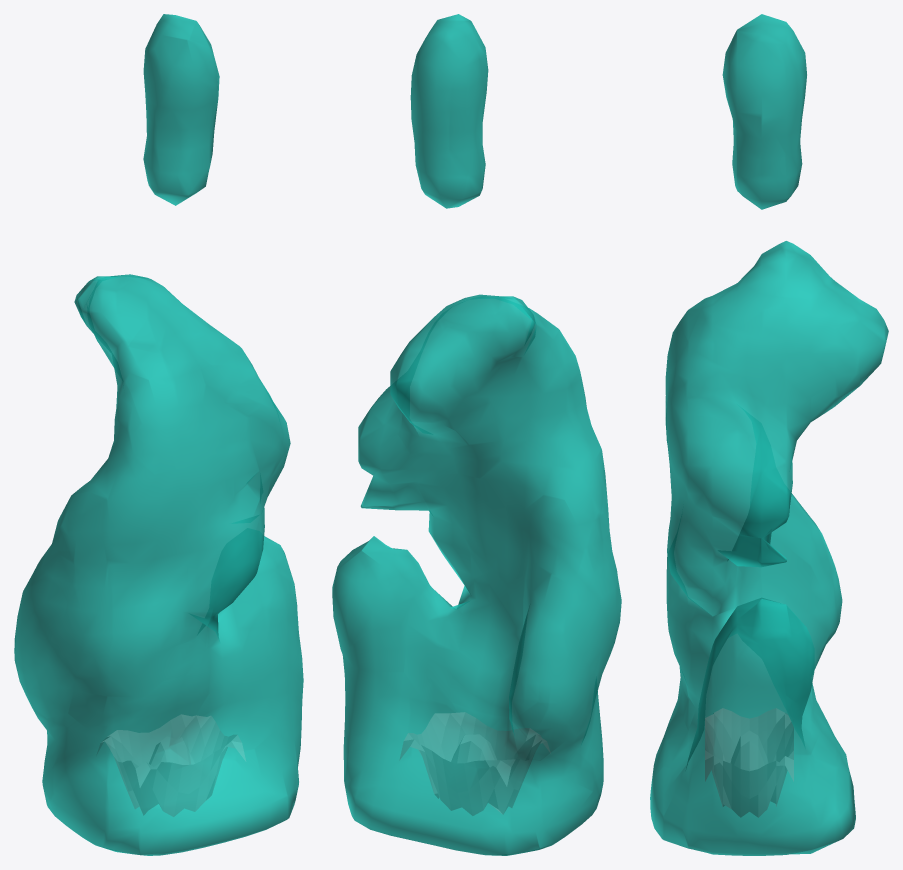
3 renders of one model, left to right at view 1: azimuth 30°, elevation 25°; view 2: azimuth 150°, elevation 25°; view 3: azimuth 270°, elevation 25°, orthographic.
Visible parts, largest first — view 1: Liquid_Domain, グリッド; view 2: Liquid_Domain, グリッド; view 3: Liquid_Domain, グリッド.
Boxes of the visible parts, x1=… form: Liquid_Domain: x1=14, y1=14, x2=303, y2=855; グリッド: x1=97, y1=714, x2=245, y2=816; Liquid_Domain: x1=332, y1=14, x2=621, y2=855; グリッド: x1=400, y1=712, x2=550, y2=815; Liquid_Domain: x1=650, y1=14, x2=888, y2=855; グリッド: x1=705, y1=708, x2=793, y2=817.
Bounding box in the file's own units: 1.02 × 3.02 × 0.8047.
